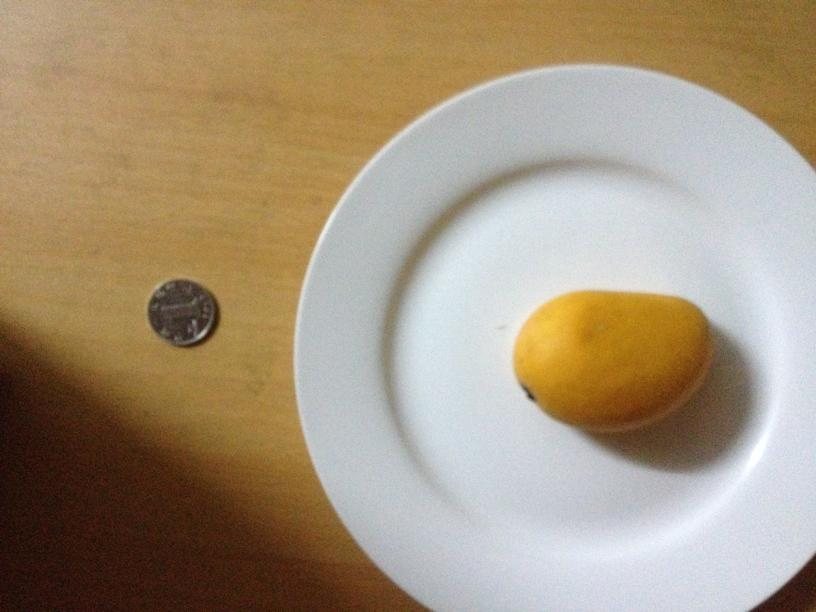coin: (143, 280, 218, 345)
mango: (514, 292, 711, 431)
